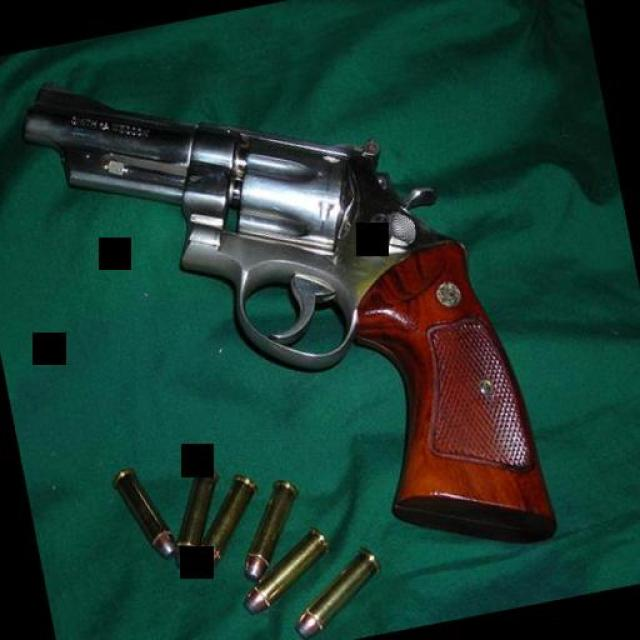gun: (14, 6, 558, 622)
